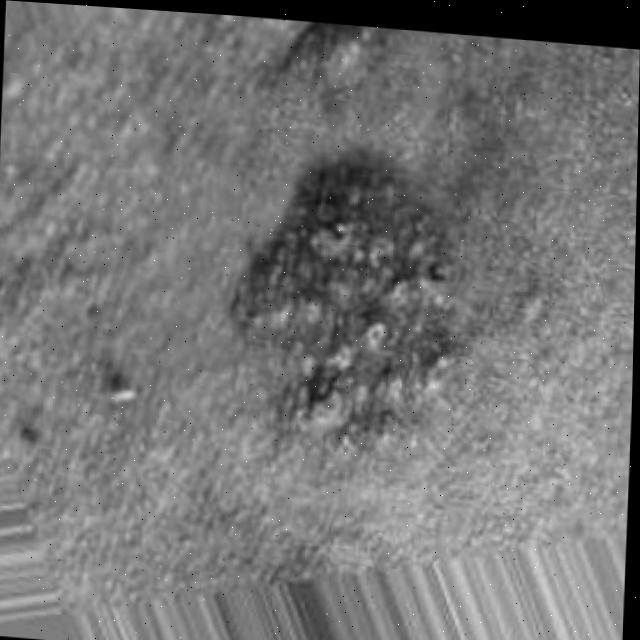Shingles: (230, 134, 473, 452)
